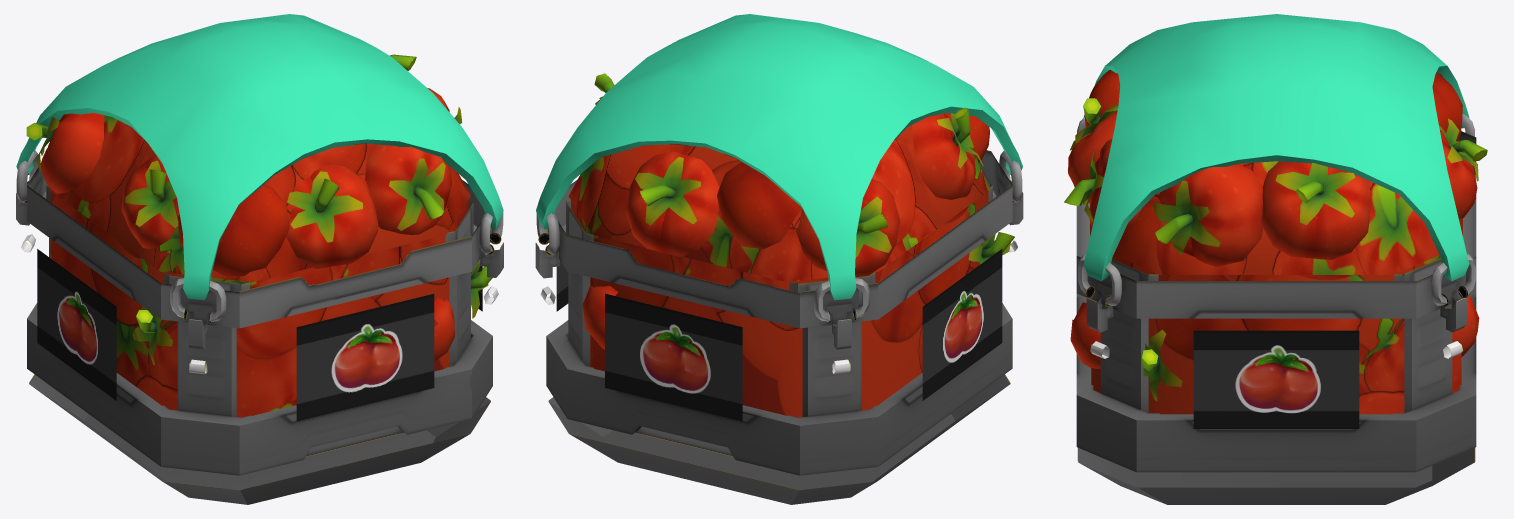
The model's file is obj_containers_tomatocrate.fbx.
The picture shows the model from 3 angles, left to right: view 1: azimuth 30°, elevation 25°; view 2: azimuth 150°, elevation 25°; view 3: azimuth 270°, elevation 25°; orthographic projection. The views are drawn at different scales.
Visible parts, largest first — view 1: obj_containers_tomatocrate; view 2: obj_containers_tomatocrate; view 3: obj_containers_tomatocrate.
Boxes of the visible parts, x1=… form: obj_containers_tomatocrate: x1=16, y1=14, x2=503, y2=504; obj_containers_tomatocrate: x1=535, y1=14, x2=1023, y2=504; obj_containers_tomatocrate: x1=1064, y1=14, x2=1487, y2=504.
Size of the model in its own units: 7.82 by 7.82 by 7.82.
